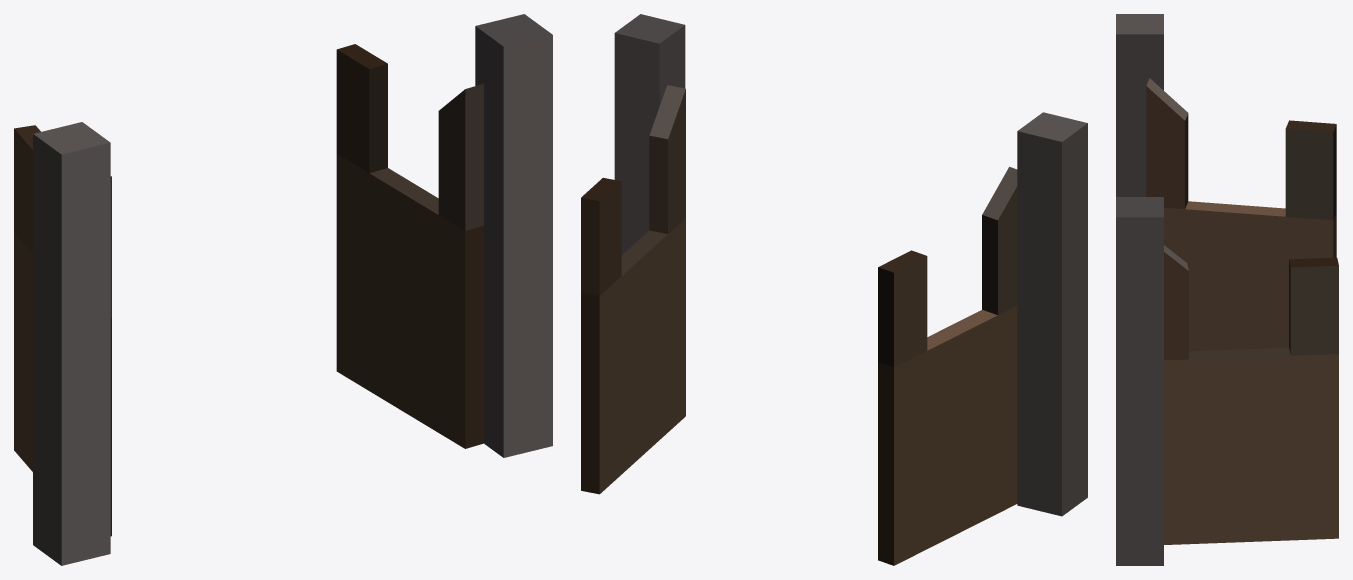
File: MidWall-GateBLOD2.fbx
3 views of the same model, side by side, from view 1: azimuth 30°, elevation 25°; view 2: azimuth 150°, elevation 25°; view 3: azimuth 270°, elevation 25° (orthographic). The views are drawn at different scales.
Visible parts, largest first — view 1: MidWall-GateBLOD2; view 2: MidWall-GateBLOD2; view 3: MidWall-GateBLOD2.
Boxes of the visible parts, left/top/right/bottom form: MidWall-GateBLOD2: left=14, top=14, right=552, bottom=565; MidWall-GateBLOD2: left=581, top=14, right=1087, bottom=565; MidWall-GateBLOD2: left=1116, top=14, right=1338, bottom=565.
Size of the model in its own units: 250 by 200 by 116.
